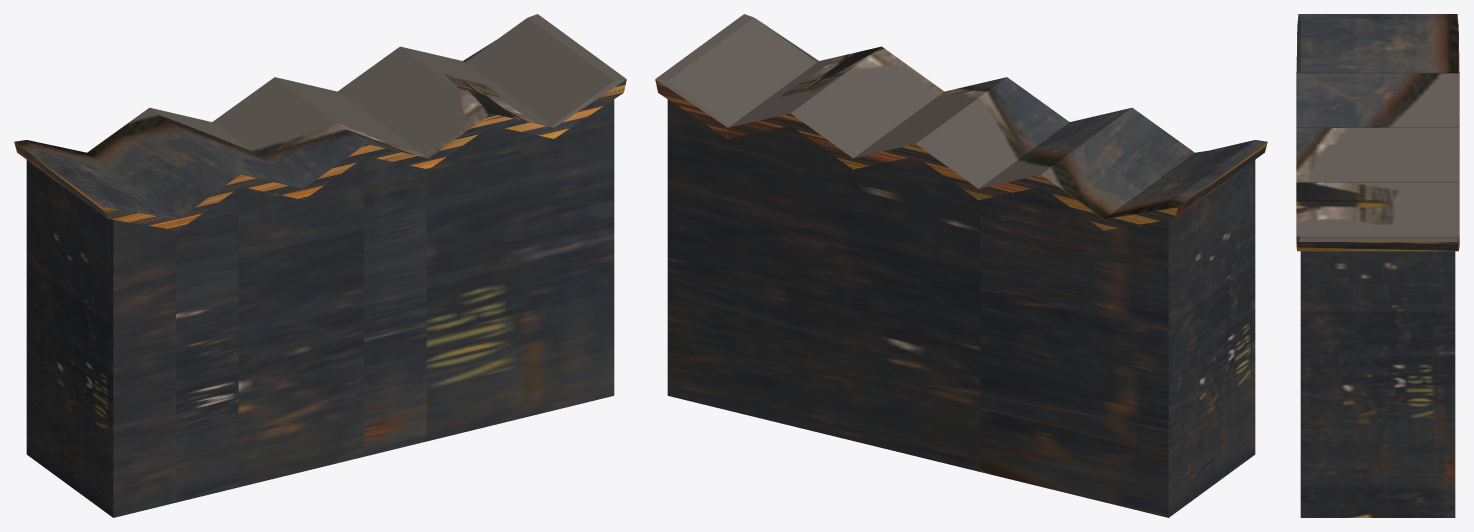
File: door 1.fbx
The picture shows the model from 3 angles, left to right: view 1: azimuth 30°, elevation 25°; view 2: azimuth 150°, elevation 25°; view 3: azimuth 270°, elevation 25°; orthographic projection. The views are drawn at different scales.
Visible parts, largest first — view 1: Cube.542; view 2: Cube.542; view 3: Cube.542.
Boxes of the visible parts, x1,y1,x2,y2 form: Cube.542: (14, 14, 626, 517); Cube.542: (655, 14, 1267, 517); Cube.542: (1296, 14, 1459, 517).
Bounding box in the file's own units: 209 × 120 × 63.14.
